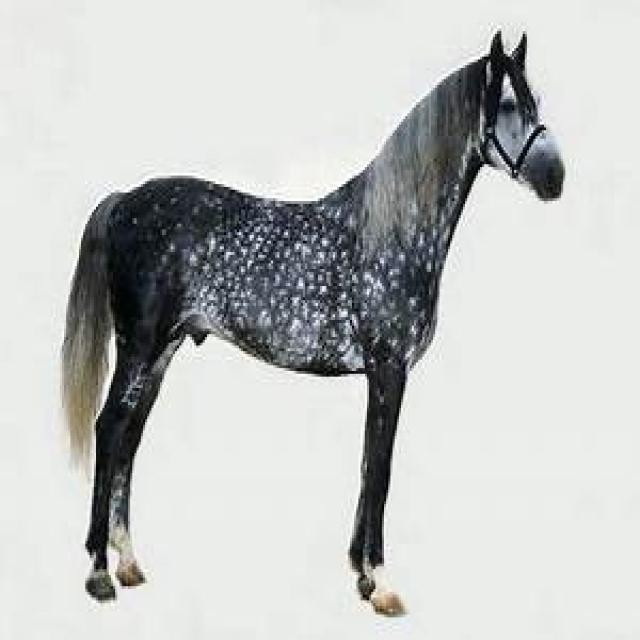horse: (60, 34, 565, 615)
